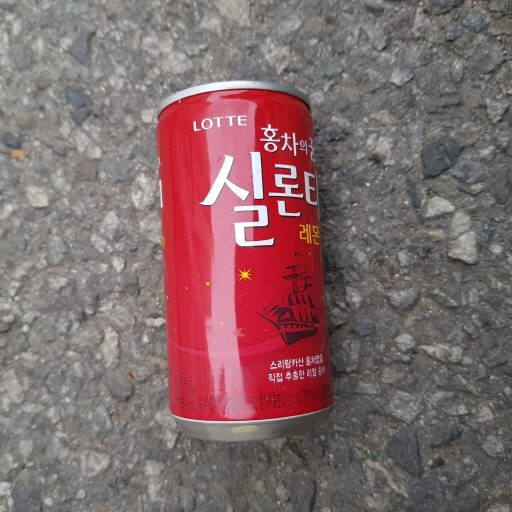Metal_0: (156, 80, 332, 445)
